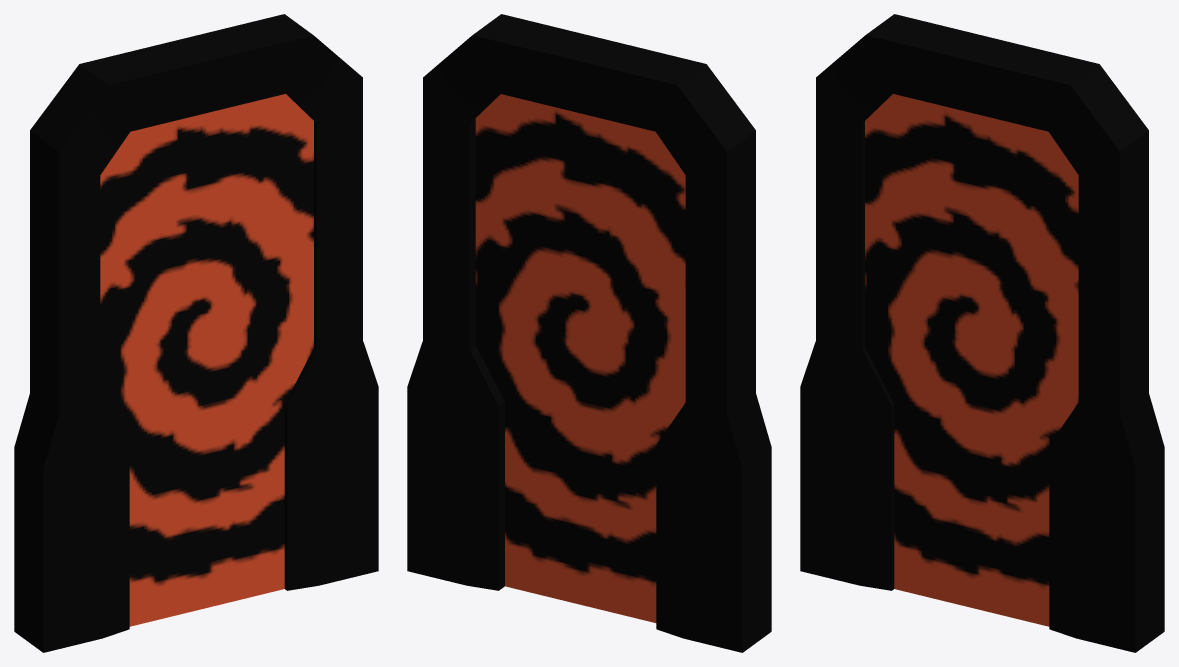
Rendered from Door01.fbx.
3 renders of one model, left to right at view 1: azimuth 30°, elevation 25°; view 2: azimuth 150°, elevation 25°; view 3: azimuth 330°, elevation 25°, orthographic.
Visible parts, largest first — view 1: polySurface432, polySurface433; view 2: polySurface432, polySurface433; view 3: polySurface432, polySurface433.
Part boxes in pixels (x1=…): polySurface432: x1=14, y1=14, x2=378, y2=652; polySurface433: x1=100, y1=94, x2=313, y2=626; polySurface432: x1=407, y1=14, x2=771, y2=652; polySurface433: x1=475, y1=94, x2=685, y2=622; polySurface432: x1=800, y1=14, x2=1164, y2=652; polySurface433: x1=865, y1=94, x2=1078, y2=626.
Bounding box in the file's own units: 0.3115 × 0.4899 × 0.0468.
Materials: 1 (1 with a texture image).
